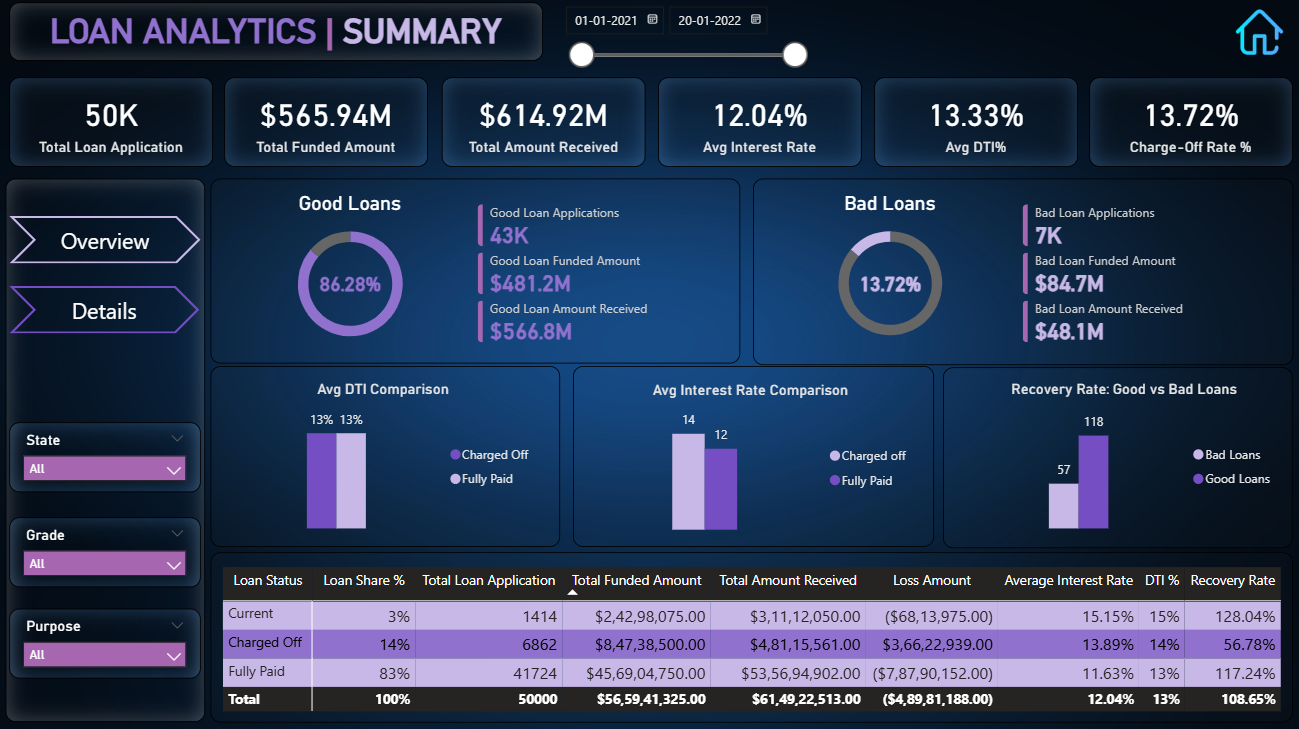

This screenshot's page, from the dashboard's own definition file:
{"tool":"powerbi","page":{"name":"Summary","canvas":[1280,720],"ordinal":2},"visuals":[{"type":"shape","box":[741.1,179.1,530.1,182.8],"z":0},{"type":"shape","box":[7.4,179.1,196.3,533.7],"z":1000},{"type":"shape","box":[208.6,179.1,520.2,181.6],"z":2000},{"type":"donutChart","fields":{"Category":["Loan.Good vs Bad Loans"],"Y":["Measure_table.Total_Loan_Application"]},"box":[220.9,213.5,250.3,138.7],"z":3000},{"type":"card","fields":{"Values":["Measure_table.Good Loan %"]},"box":[306.8,261.4,78.5,44.2],"z":4000},{"type":"textbox","box":[260.1,187.7,170.6,34.4],"z":5000},{"type":"cardVisual","fields":{"Data":["Measure_table.Good Loan Application","Measure_table.Good Funded Application","Measure_table.Good Amont Application"]},"box":[454,187.7,263.8,169.3],"z":6000},{"type":"donutChart","fields":{"Category":["Loan.Good vs Bad Loans"],"Y":["Measure_table.Total_Loan_Application"]},"box":[750.9,213.5,250.3,137.4],"z":7000},{"type":"textbox","box":[790.2,187.7,170.6,34.4],"z":8000},{"type":"cardVisual","fields":{"Data":["Measure_table.Bad Loan Applications","Measure_table.Bad Loan Funded Amount","Measure_table.Bad Loan Amount Received"]},"box":[989,187.7,263.8,169.3],"z":9000},{"type":"card","fields":{"Values":["Measure_table.Bad Loan %"]},"box":[836.8,261.4,78.5,44.2],"z":10000},{"type":"slicer","fields":{"Values":["Loan.Grade"]},"box":[11,511.7,187.7,68.7],"z":11000},{"type":"slicer","fields":{"Values":["LoanPurpose.Purpose"]},"box":[11,601.2,187.7,68.7],"z":12000},{"type":"slicer","fields":{"Values":["State.StateName"]},"box":[11,418.4,187.7,68.7],"z":13000},{"type":"shape","box":[208.6,546,1062.6,166.9],"z":15000},{"type":"pivotTable","fields":{"Rows":["Loan.LoanStatus"],"Values":["Measure_table.Loan Share %","Measure_table.Total_Loan_Application","Measure_table.Total_Funded_Amount","Measure_table.Total Amount Received","Measure_table.Loss Amount","Measure_table.Average_Interest_Rate","Measure_table.LoanStatus wise DTI %","Measure_table.Recovery Rate"]},"box":[216,555.8,1050.3,158.3],"z":16000},{"type":"shape","box":[208.6,363.2,343.6,177.9],"z":17000},{"type":"clusteredColumnChart","title":"Avg DTI Comparison","fields":{"Y":["Measure_table.Avg DTI (Charged Off)","Measure_table.Avg DTI (Fully Paid)"]},"box":[220.9,376.7,314.1,152.1],"z":18000},{"type":"shape","box":[564.4,363.2,354.6,177.9],"z":19000},{"type":"shape","box":[927.6,364.4,343.6,177.9],"z":20000},{"type":"clusteredColumnChart","title":"Avg Interest Rate Comparison","fields":{"Y":["Measure_table.Avg Int Rate (Charged Off)","Measure_table.Avg Int Rate (Fully Paid)"]},"box":[571.8,377.9,333.7,152.1],"z":21000},{"type":"clusteredColumnChart","title":"Recovery Rate: Good vs Bad Loans","fields":{"Y":["Measure_table.Recovery Rate (Bad Loans)","Measure_table.Recovery Rate (Good Loans)"]},"box":[948.5,376.7,314.1,152.1],"z":22000},{"type":"textbox","box":[11,6.1,523.9,57.7],"z":23000},{"type":"image","box":[1213,12.3,50,46.7],"z":24000},{"type":"card","fields":{"Values":["Measure_table.Total_Loan_Application"]},"box":[11,79.8,200,88.3],"z":25000},{"type":"card","fields":{"Values":["Measure_table.Total_Funded_Amount"]},"box":[222.1,79.8,200,88.3],"z":26000},{"type":"card","fields":{"Values":["Measure_table.Total Amount Received"]},"box":[435.6,79.8,200,88.3],"z":27000},{"type":"card","fields":{"Values":["Measure_table.Average_Interest_Rate"]},"box":[647.9,79.8,200,88.3],"z":28000},{"type":"card","fields":{"Values":["Measure_table.Avg DTI%"]},"box":[860.1,79.8,200,88.3],"z":29000},{"type":"card","fields":{"Values":["Measure_table.Charge-Off Rate %"]},"box":[1071.2,79.8,200,88.3],"z":30000},{"type":"shape","box":[11,216,187.7,46.6],"z":31000},{"type":"shape","box":[11,284.7,186.5,46.6],"z":32000},{"type":"slicer","fields":{"Values":["Date.Date"]},"box":[544.8,0,258.9,79.8],"z":32001}]}

Visuals, with their boxes in screenshot pixels (x1, y1, x2, y2), scaled from the page's 1280x720 canvas onto the 1299x729 screenshot:
shape: <bbox>752, 181, 1290, 366</bbox>
shape: <bbox>8, 181, 207, 722</bbox>
shape: <bbox>212, 181, 740, 365</bbox>
donutChart - Loan.Good vs Bad Loans x Measure_table.Total_Loan_Application: <bbox>224, 216, 478, 357</bbox>
card - Measure_table.Good Loan %: <bbox>311, 265, 391, 309</bbox>
textbox: <bbox>264, 190, 437, 225</bbox>
cardVisual - Measure_table.Good Loan Application x Measure_table.Good Funded Application: <bbox>461, 190, 728, 361</bbox>
donutChart - Loan.Good vs Bad Loans x Measure_table.Total_Loan_Application: <bbox>762, 216, 1016, 355</bbox>
textbox: <bbox>802, 190, 975, 225</bbox>
cardVisual - Measure_table.Bad Loan Applications x Measure_table.Bad Loan Funded Amount: <bbox>1004, 190, 1271, 361</bbox>
card - Measure_table.Bad Loan %: <bbox>849, 265, 929, 309</bbox>
slicer - Loan.Grade: <bbox>11, 518, 202, 588</bbox>
slicer - LoanPurpose.Purpose: <bbox>11, 609, 202, 678</bbox>
slicer - State.StateName: <bbox>11, 424, 202, 493</bbox>
shape: <bbox>212, 553, 1290, 722</bbox>
pivotTable - Loan.LoanStatus x Measure_table.Loan Share %: <bbox>219, 563, 1285, 723</bbox>
shape: <bbox>212, 368, 560, 548</bbox>
"Avg DTI Comparison" clusteredColumnChart: <bbox>224, 381, 543, 535</bbox>
shape: <bbox>573, 368, 933, 548</bbox>
shape: <bbox>941, 369, 1290, 549</bbox>
"Avg Interest Rate Comparison" clusteredColumnChart: <bbox>580, 383, 919, 537</bbox>
"Recovery Rate: Good vs Bad Loans" clusteredColumnChart: <bbox>963, 381, 1281, 535</bbox>
textbox: <bbox>11, 6, 543, 65</bbox>
image: <bbox>1231, 12, 1282, 60</bbox>
card - Measure_table.Total_Loan_Application: <bbox>11, 81, 214, 170</bbox>
card - Measure_table.Total_Funded_Amount: <bbox>225, 81, 428, 170</bbox>
card - Measure_table.Total Amount Received: <bbox>442, 81, 645, 170</bbox>
card - Measure_table.Average_Interest_Rate: <bbox>658, 81, 860, 170</bbox>
card - Measure_table.Avg DTI%: <bbox>873, 81, 1076, 170</bbox>
card - Measure_table.Charge-Off Rate %: <bbox>1087, 81, 1290, 170</bbox>
shape: <bbox>11, 219, 202, 266</bbox>
shape: <bbox>11, 288, 200, 335</bbox>
slicer - Date.Date: <bbox>553, 0, 816, 81</bbox>
